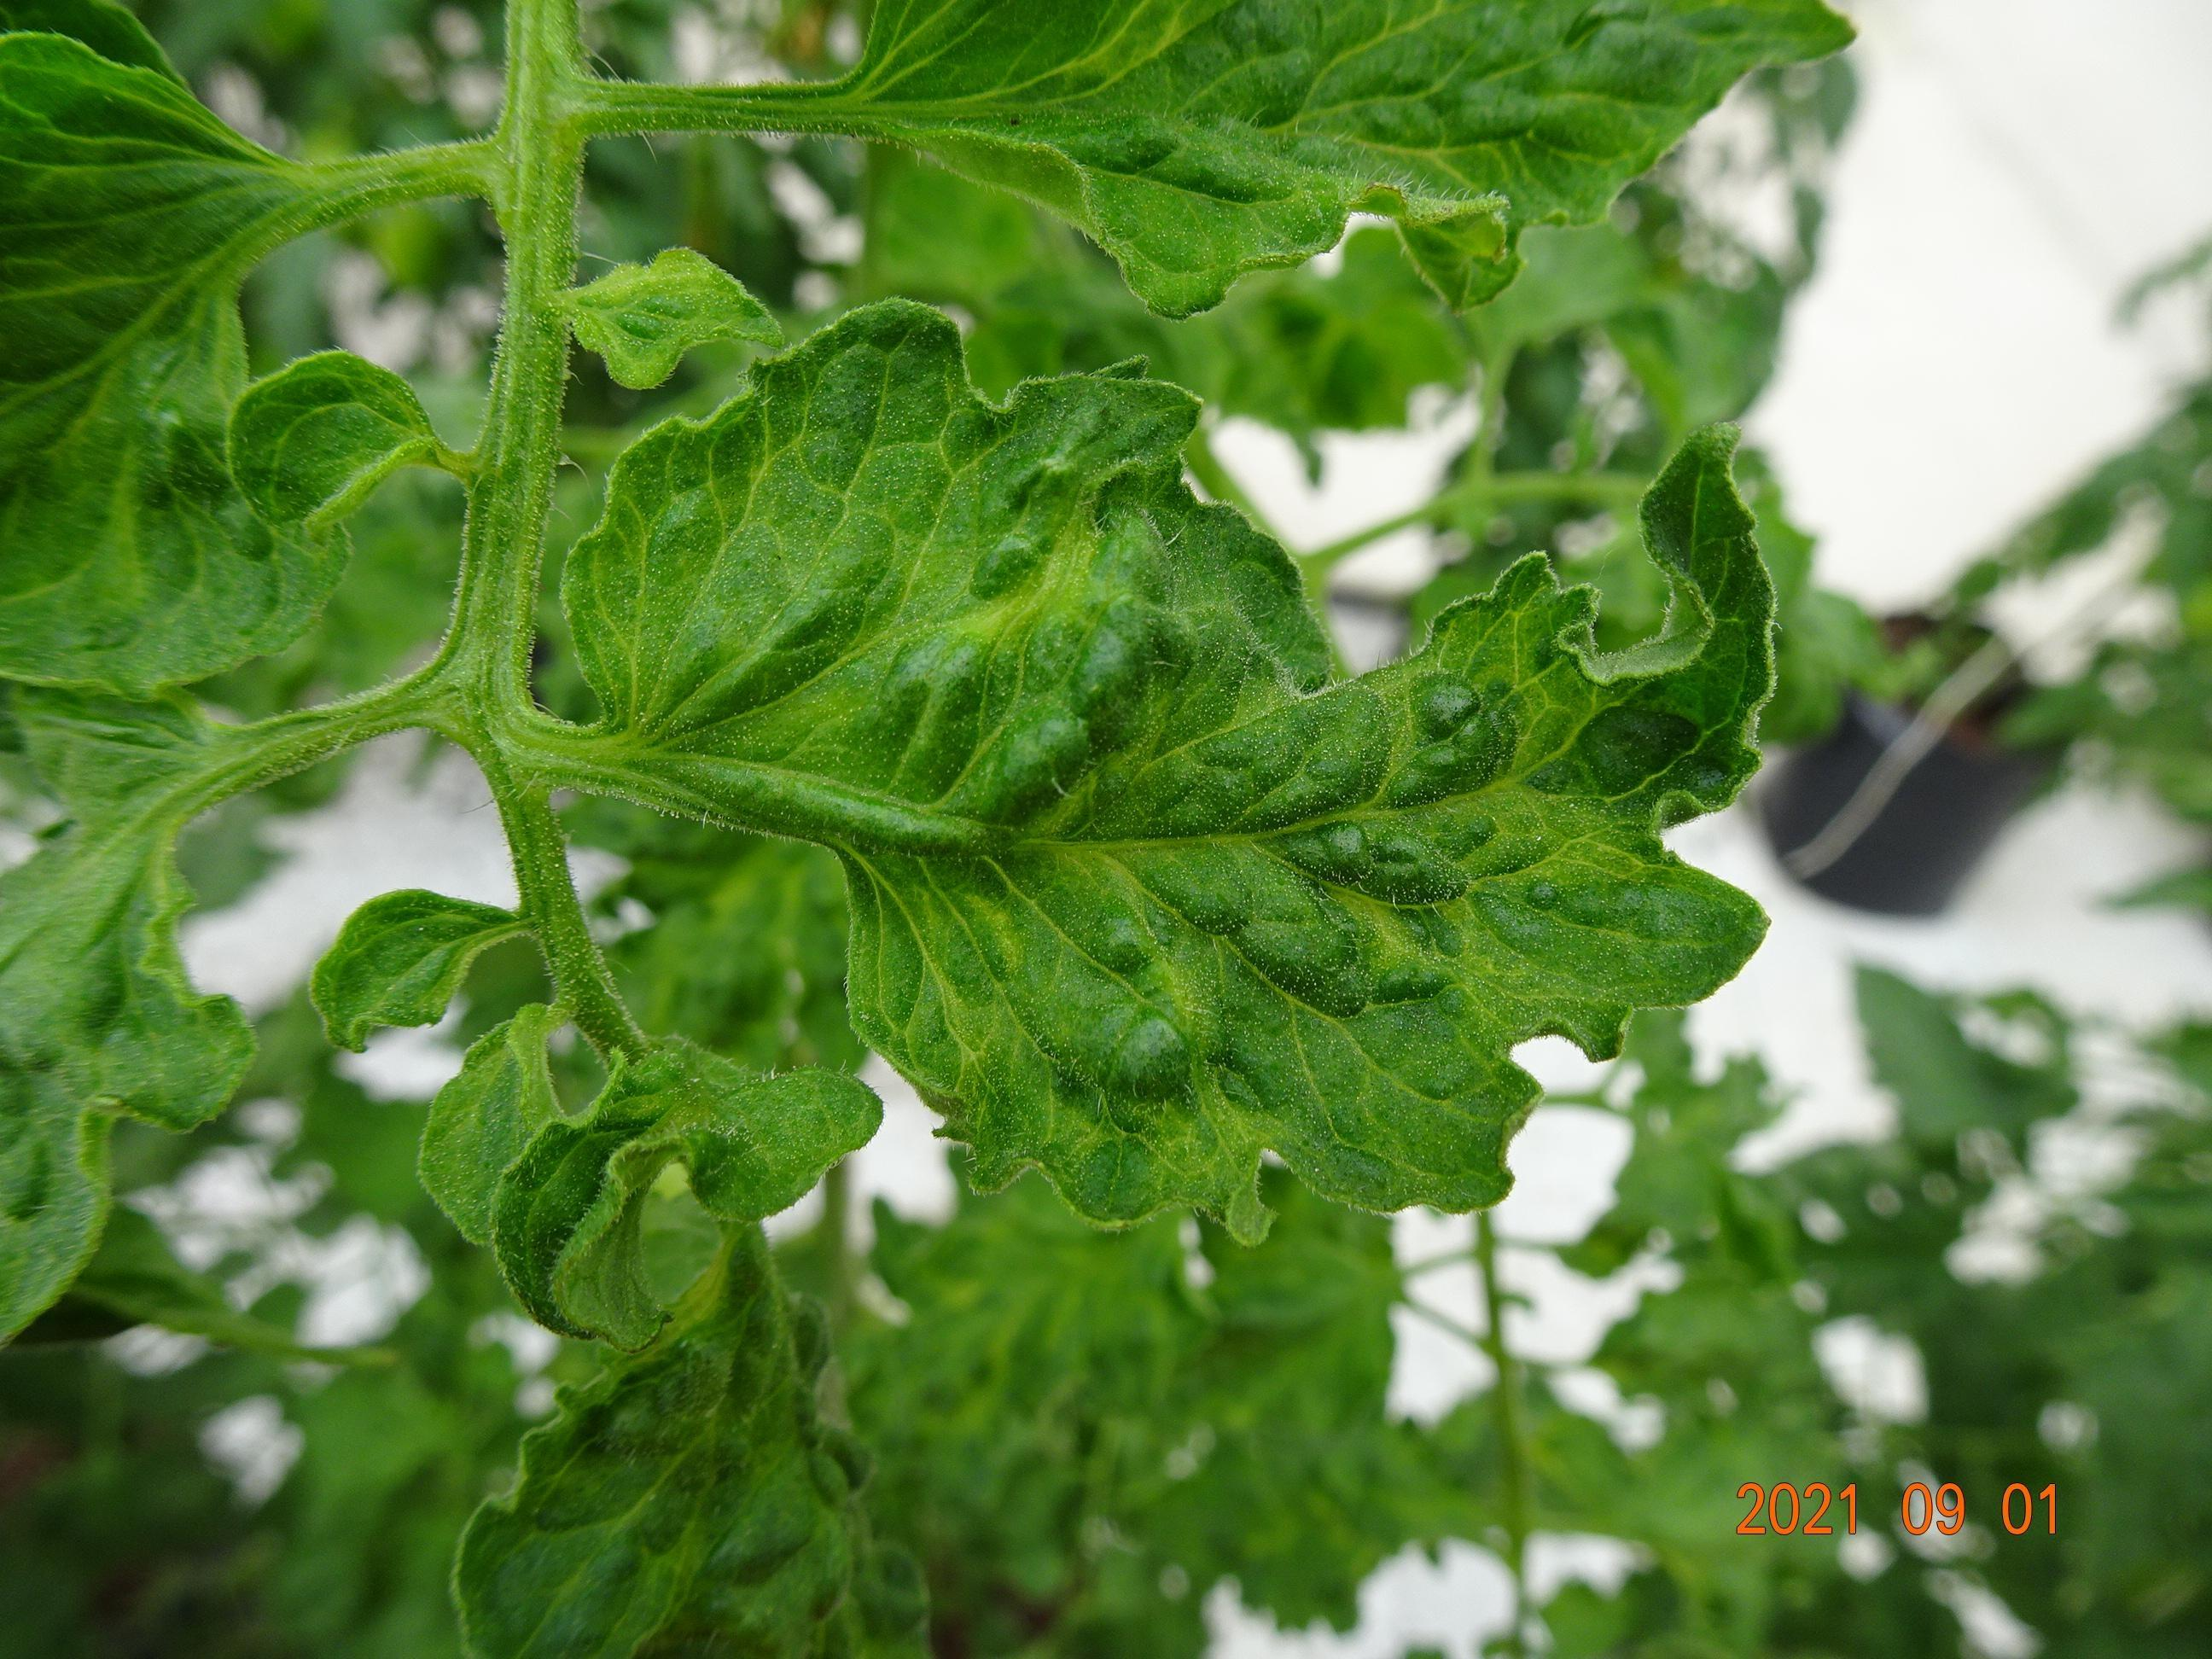Rugose leaf: (563, 307, 1777, 1227), (587, 0, 1850, 315), (228, 350, 453, 535), (420, 1002, 566, 1244), (312, 890, 531, 1049), (557, 246, 782, 389)
